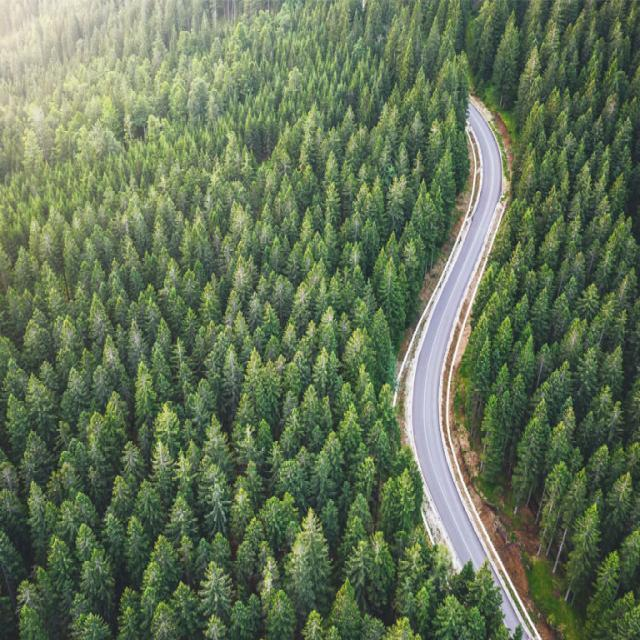tree: (454, 556, 506, 640), (293, 508, 335, 610), (346, 531, 394, 613), (564, 502, 602, 602), (556, 466, 590, 576), (44, 203, 80, 299), (482, 386, 514, 486), (592, 550, 626, 638), (516, 414, 544, 518), (98, 335, 142, 401), (412, 180, 442, 272), (79, 546, 117, 618), (24, 374, 60, 450), (382, 470, 422, 538), (46, 537, 78, 619), (398, 529, 430, 611), (542, 460, 568, 560), (473, 332, 495, 450), (431, 592, 485, 640), (143, 536, 181, 604), (378, 258, 406, 350), (236, 516, 268, 596), (514, 44, 546, 124), (496, 240, 532, 310), (233, 397, 274, 458), (534, 362, 574, 424), (102, 396, 138, 464), (12, 432, 52, 492), (198, 463, 234, 529), (0, 526, 28, 610), (370, 310, 398, 394), (398, 218, 427, 298), (316, 432, 348, 502), (276, 446, 316, 502), (52, 490, 100, 536), (498, 19, 522, 109), (342, 490, 380, 546), (122, 515, 154, 581), (19, 319, 61, 369), (58, 432, 98, 484), (186, 380, 218, 444), (198, 560, 232, 620), (608, 470, 636, 542), (14, 583, 49, 640), (202, 411, 232, 477), (437, 151, 458, 243), (330, 578, 360, 640), (136, 360, 160, 436), (105, 474, 132, 540), (168, 495, 198, 553), (156, 194, 184, 256), (116, 586, 148, 640), (574, 346, 602, 404), (347, 261, 375, 319), (530, 284, 556, 346), (26, 474, 46, 554), (308, 253, 334, 314), (370, 420, 398, 476), (239, 463, 269, 515), (304, 100, 324, 176), (601, 336, 627, 394), (540, 219, 566, 277), (300, 381, 324, 443), (122, 444, 148, 501), (172, 582, 200, 634), (148, 436, 176, 488), (18, 244, 44, 300), (227, 290, 256, 340), (64, 366, 88, 426), (456, 50, 474, 130), (492, 318, 516, 377), (560, 254, 592, 298), (149, 220, 171, 284), (88, 292, 115, 344), (475, 12, 493, 90), (183, 206, 209, 260), (270, 590, 298, 640), (170, 445, 198, 495), (322, 181, 342, 251), (518, 324, 536, 401), (600, 394, 628, 442), (336, 402, 360, 458), (343, 325, 371, 373), (186, 76, 214, 124), (612, 114, 638, 164), (472, 267, 494, 325), (1, 487, 27, 535), (248, 350, 272, 402), (384, 176, 408, 228), (138, 476, 160, 532), (126, 316, 148, 372), (540, 22, 560, 82), (340, 104, 360, 164), (349, 454, 378, 494), (202, 530, 234, 566), (586, 446, 610, 494), (578, 406, 602, 454), (451, 128, 469, 192), (314, 346, 338, 394), (290, 278, 314, 326), (608, 170, 632, 218), (614, 266, 640, 310), (229, 198, 251, 250), (580, 282, 600, 338), (597, 236, 617, 292), (153, 603, 183, 640), (222, 343, 242, 397), (565, 312, 585, 366), (175, 310, 201, 350), (568, 196, 588, 248), (576, 153, 596, 204), (74, 612, 110, 640), (382, 612, 418, 640), (520, 165, 540, 215), (56, 320, 82, 358), (282, 408, 304, 452), (132, 212, 152, 260), (403, 109, 425, 151), (424, 17, 440, 74), (165, 260, 183, 310), (282, 322, 304, 362), (241, 60, 263, 100), (74, 526, 98, 562), (232, 253, 252, 295), (603, 57, 625, 95), (90, 259, 110, 297), (355, 184, 373, 224), (305, 604, 323, 640), (594, 112, 610, 152), (298, 208, 316, 240), (129, 268, 147, 300)
